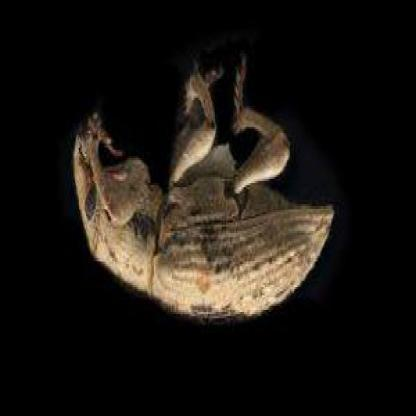rice-bug: (72, 47, 336, 326)
